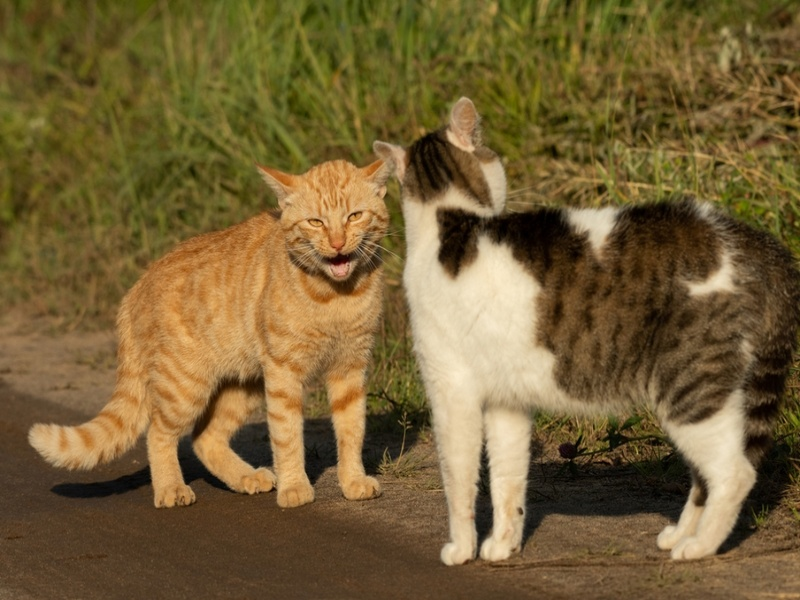cat: (375, 95, 793, 569), (25, 148, 396, 518)
